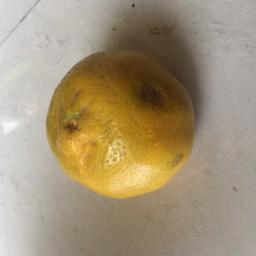Bad_orange: (41, 50, 201, 205)
